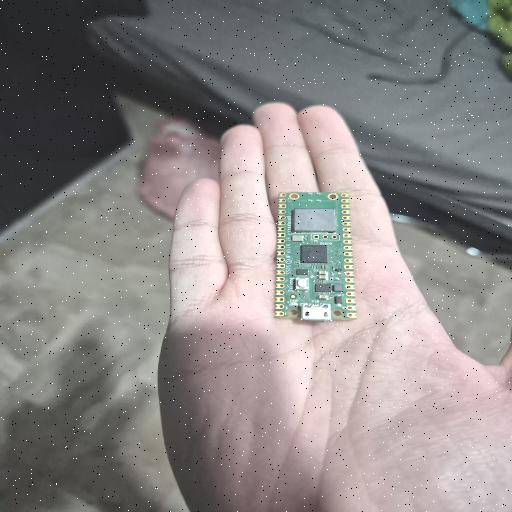raspberry-pi-pico-w: (276, 192, 356, 321)
